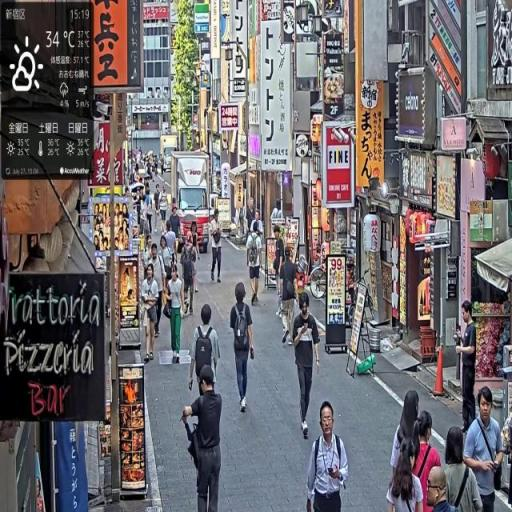person: (181, 362, 224, 512), (463, 384, 506, 512), (306, 399, 351, 512), (292, 294, 323, 443), (231, 281, 256, 414), (445, 426, 483, 512), (456, 300, 478, 441), (189, 304, 221, 399), (412, 412, 441, 512), (391, 391, 423, 481), (388, 438, 425, 512), (280, 248, 300, 349), (166, 265, 187, 360), (142, 262, 161, 364), (149, 243, 167, 337), (247, 221, 264, 308), (181, 233, 197, 317), (210, 211, 225, 284), (188, 220, 202, 295), (272, 225, 286, 300), (159, 236, 174, 302), (253, 211, 264, 269), (170, 207, 182, 258), (166, 223, 177, 263)
